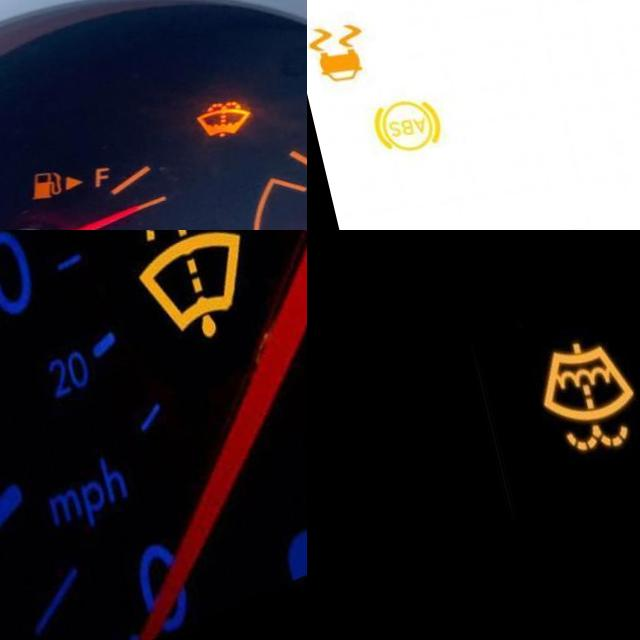Washer Fluid: (111, 230, 252, 354), (514, 346, 628, 464)
